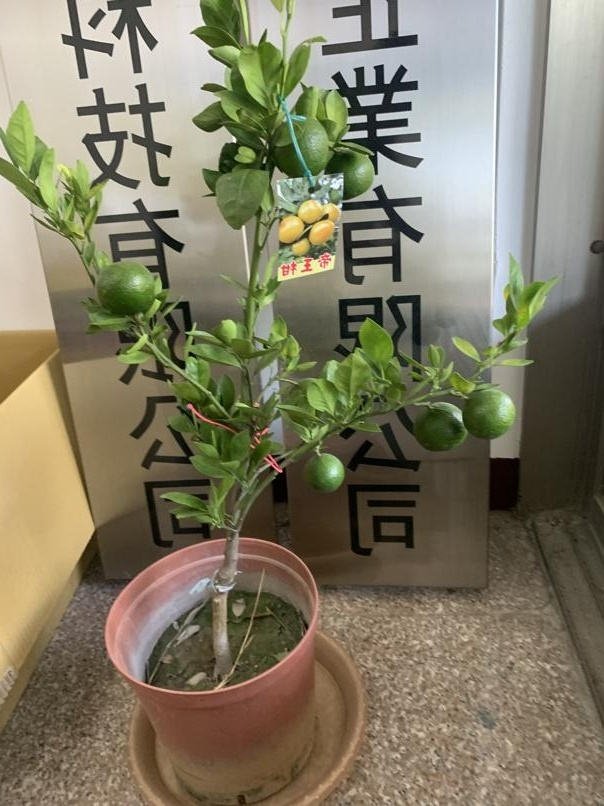Tangerine: (97, 262, 157, 317), (465, 381, 520, 440), (411, 403, 468, 452), (306, 449, 345, 495)
